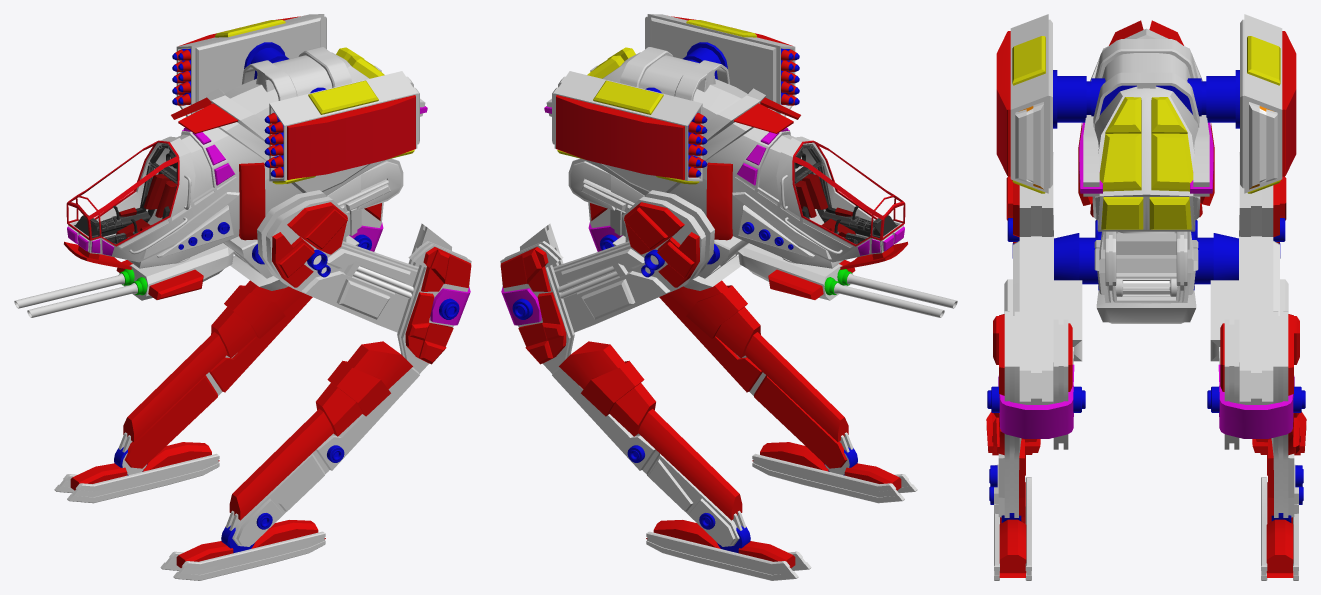
Rendered from Cobra_walker_static.fbx.
3 views of the same model, side by side, from view 1: azimuth 30°, elevation 25°; view 2: azimuth 150°, elevation 25°; view 3: azimuth 270°, elevation 25° (orthographic). The views are drawn at different scales.
Parts seen in each view (by area): view 1: Legs_mesh, Exterior.001, Interior, Cockpit; view 2: Legs_mesh, Exterior.001, Interior, Cockpit; view 3: Legs_mesh, Exterior.001, Rocket_pods_mag.
Part boxes in pixels (left/top/right/bottom): Legs_mesh: left=54, top=158, right=471, bottom=580; Exterior.001: left=14, top=14, right=427, bottom=317; Interior: left=74, top=144, right=177, bottom=244; Cockpit: left=66, top=140, right=179, bottom=246; Legs_mesh: left=500, top=158, right=917, bottom=580; Exterior.001: left=544, top=14, right=957, bottom=317; Interior: left=794, top=144, right=897, bottom=244; Cockpit: left=792, top=140, right=905, bottom=246; Legs_mesh: left=986, top=152, right=1306, bottom=580; Exterior.001: left=996, top=14, right=1296, bottom=231; Rocket_pods_mag: left=1015, top=102, right=1277, bottom=189.
Size of the model in its own units: 356 by 645 by 682.
